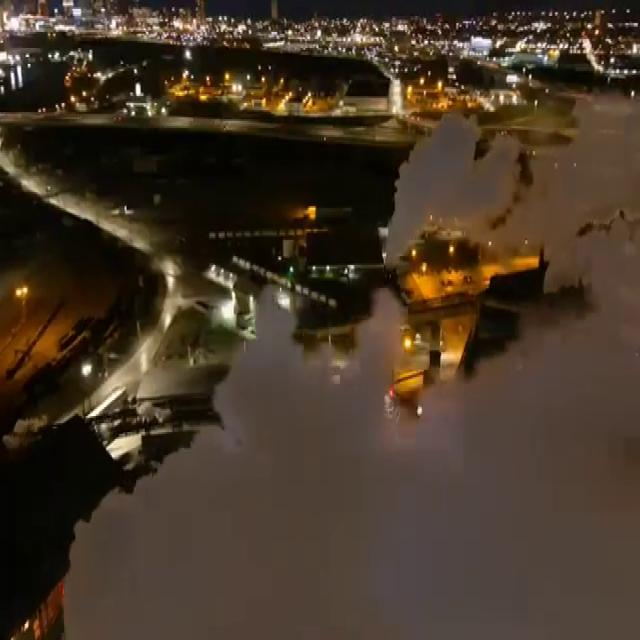smoke: (385, 114, 526, 261)
